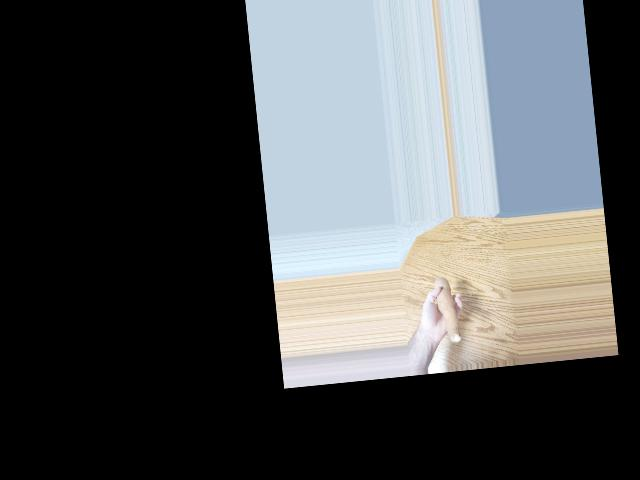sweet_potato: (433, 277, 459, 342)
